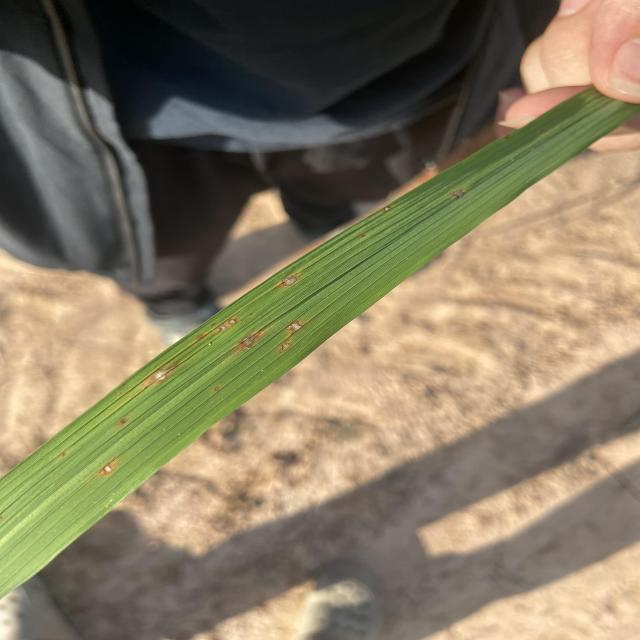Dao on: (143, 367, 175, 388), (238, 332, 263, 350), (216, 318, 239, 332), (278, 273, 300, 287), (285, 320, 303, 332), (279, 341, 292, 353), (101, 465, 113, 474), (382, 205, 391, 212)
